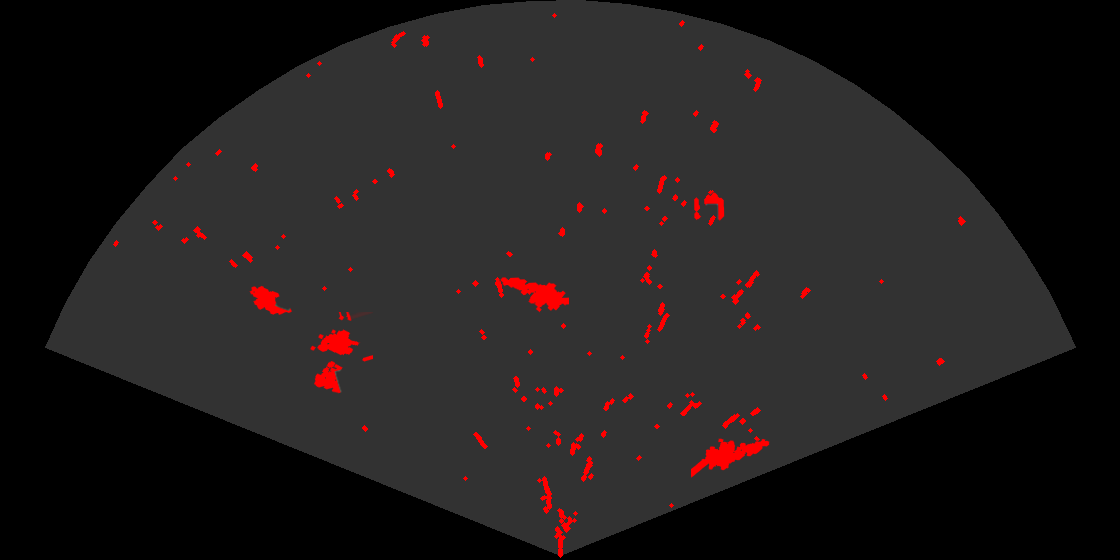AUV: (248, 284, 293, 316)
ball: (692, 191, 726, 222)
cage: (309, 312, 373, 395)
frogman: (691, 437, 771, 479), (499, 276, 569, 314)
